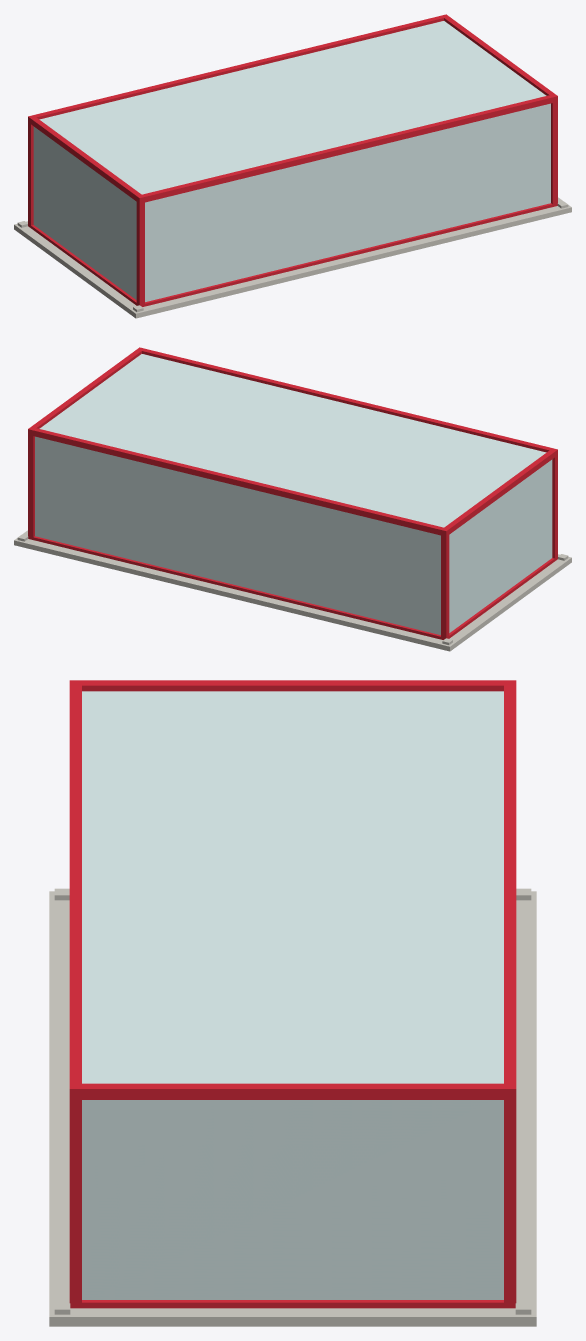
Rendered from pagani-zonda-r-phantom-wing.glb.
The picture shows the model from 3 angles, top to bottom: view 1: azimuth 30°, elevation 25°; view 2: azimuth 150°, elevation 25°; view 3: azimuth 270°, elevation 25°; orthographic projection. The views are drawn at different scales.
Size of the model in its own units: 0.568 by 0.1425 by 0.275.
